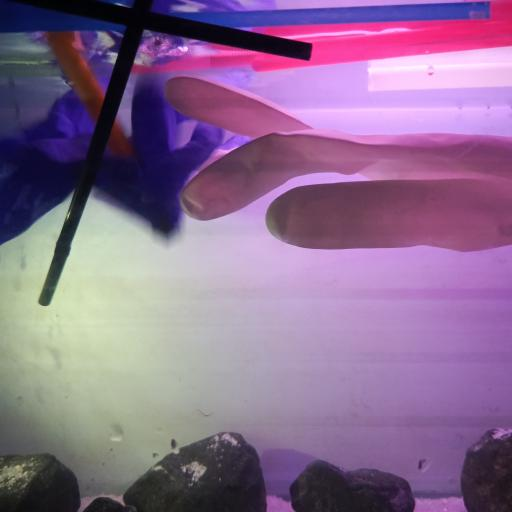glove: (164, 72, 512, 254), (0, 46, 226, 244)
plastic_straw: (37, 0, 155, 307), (24, 0, 313, 62), (6, 0, 491, 34), (46, 32, 136, 162), (250, 34, 512, 72), (252, 18, 512, 36), (130, 48, 260, 74)
